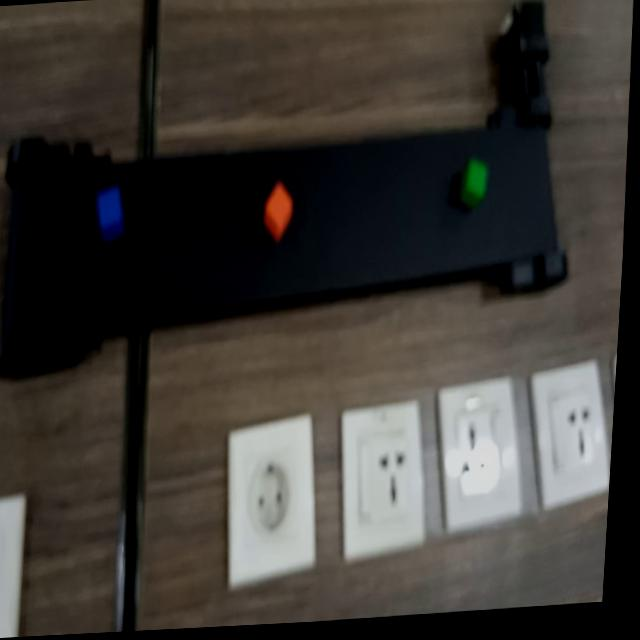cube: (454, 153, 503, 220), (87, 180, 131, 248)
